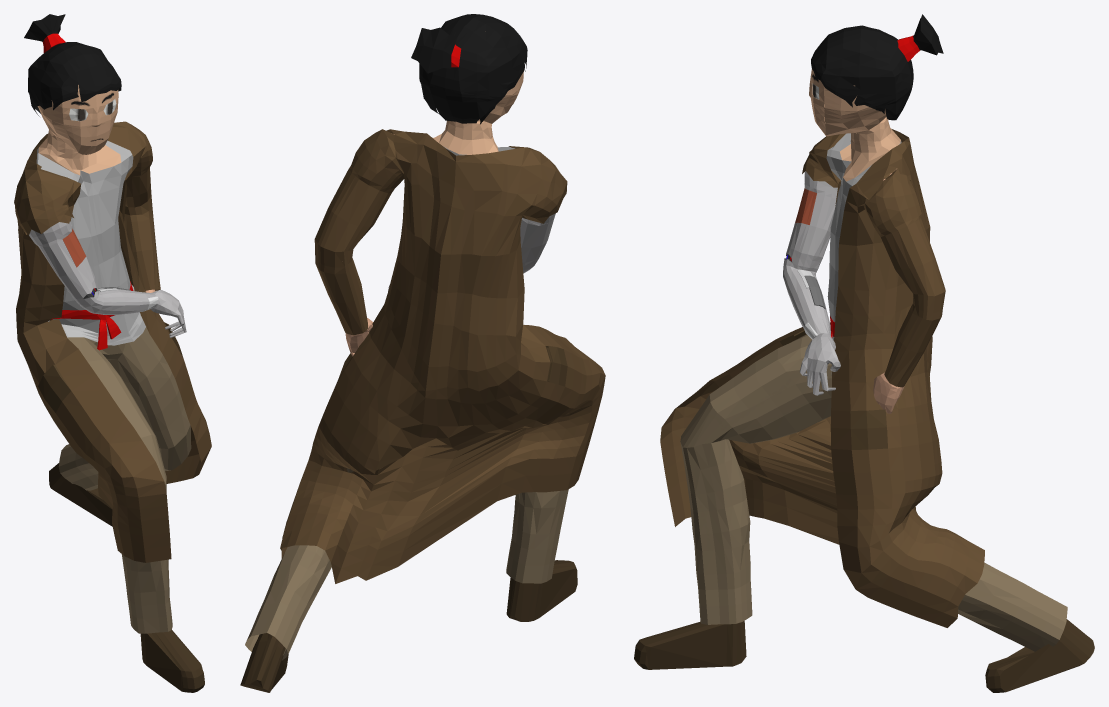
The model's file is One_RL_000002.obj.
3 views of the same model, side by side, from view 1: azimuth 30°, elevation 25°; view 2: azimuth 150°, elevation 25°; view 3: azimuth 270°, elevation 25° (orthographic). The views are drawn at different scales.
Visible parts, largest first — view 1: Hair_Cube.004; view 2: Hair_Cube.004; view 3: Hair_Cube.004.
Boxes of the visible parts, left/top/right/bottom form: Hair_Cube.004: left=14, top=14, right=211, bottom=692; Hair_Cube.004: left=240, top=14, right=605, bottom=692; Hair_Cube.004: left=634, top=14, right=1094, bottom=692.
Bounding box in the file's own units: 1.26 × 3.49 × 2.28.
